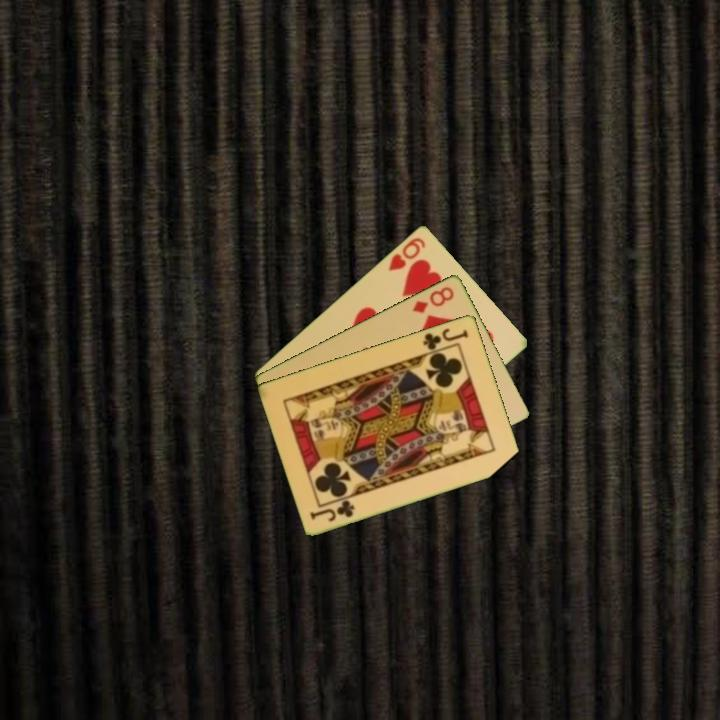6h: (385, 233, 428, 274)
8d: (409, 282, 457, 316)
Jc: (420, 324, 471, 353), (307, 496, 358, 524)
